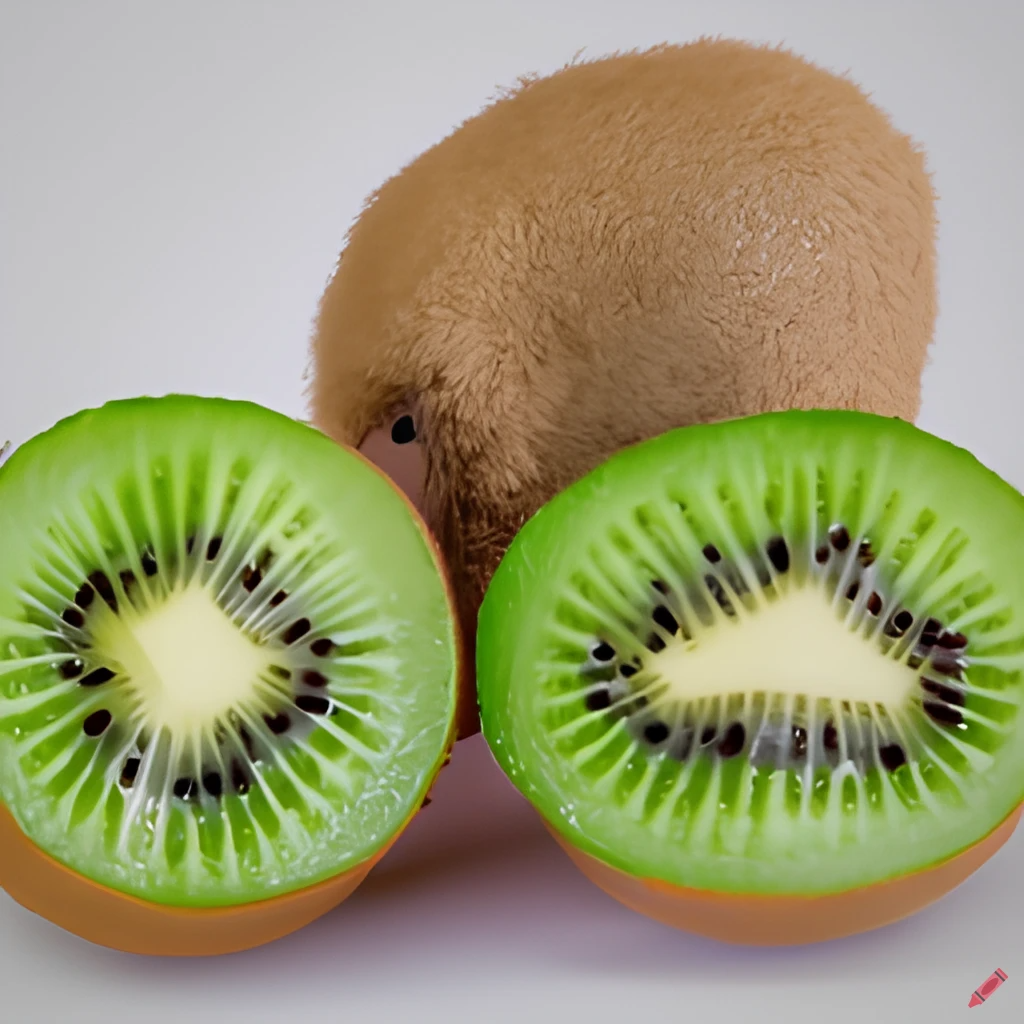Kiwi: (403, 376, 1024, 953)
